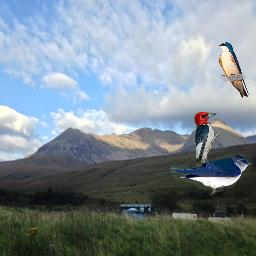Swallow: (169, 154, 252, 195), (218, 42, 249, 98)
Woodpecker: (193, 112, 221, 180)
